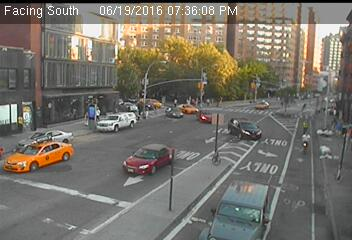neg: (95, 205, 113, 230), (329, 181, 346, 203), (28, 107, 45, 129), (37, 150, 54, 172), (274, 198, 290, 220), (76, 149, 92, 171), (41, 65, 56, 85), (298, 132, 313, 151), (28, 41, 42, 60), (170, 153, 184, 171), (318, 8, 331, 26), (306, 41, 319, 59), (47, 195, 60, 212), (298, 115, 310, 132), (213, 39, 225, 56), (24, 215, 36, 231), (302, 74, 314, 90), (161, 43, 173, 58), (99, 178, 110, 194), (278, 10, 290, 24), (209, 173, 220, 188), (253, 132, 264, 146), (328, 52, 339, 66), (147, 142, 157, 155), (156, 200, 166, 213), (98, 41, 108, 54), (255, 41, 262, 51), (251, 90, 258, 99)
pos: (336, 119, 349, 136), (80, 107, 93, 124), (93, 105, 105, 121), (327, 115, 339, 130), (172, 97, 181, 109), (184, 95, 191, 104)
